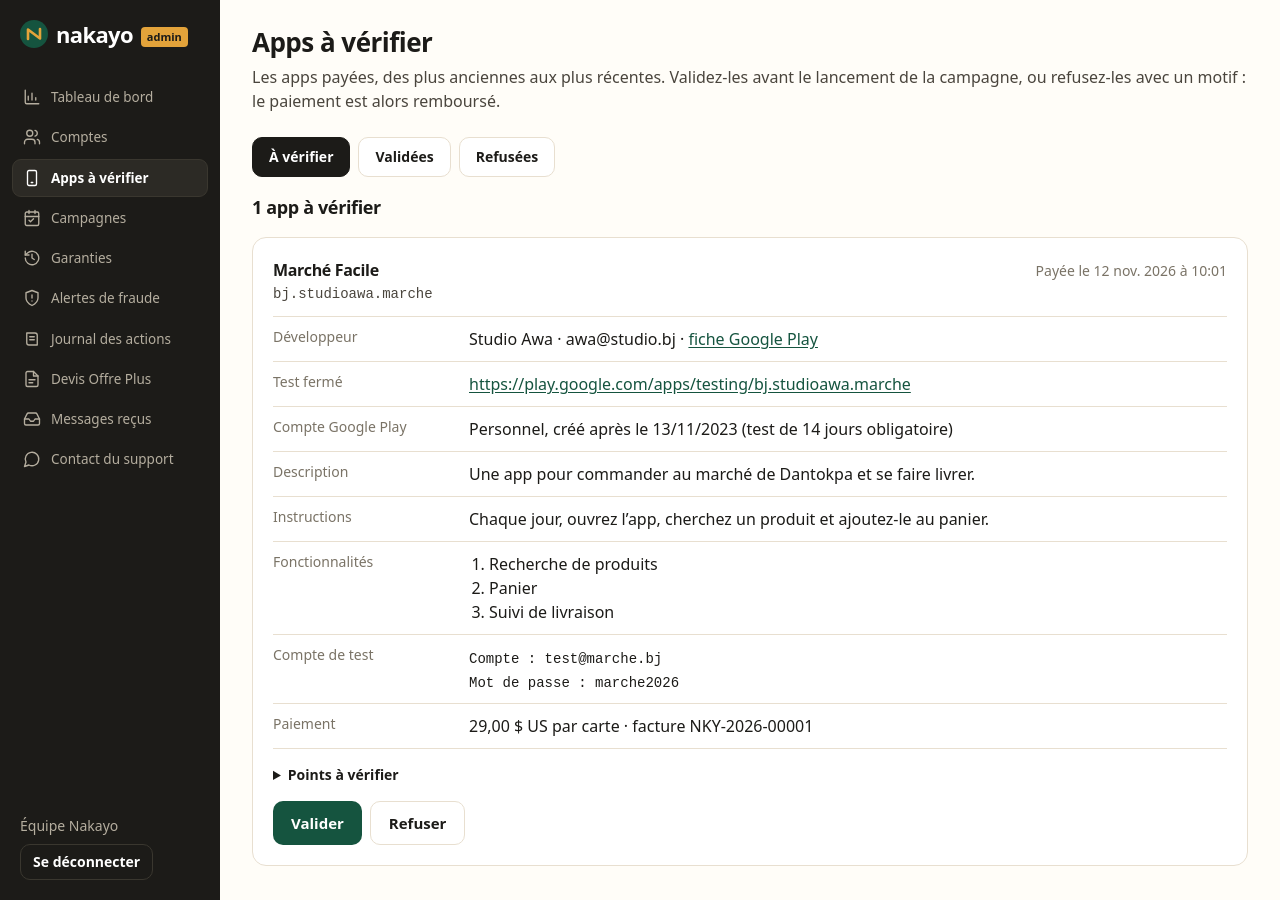
Test: Apps à vérifier (US-14) › valider retire l’app de la file et l’annonce
Step 1. Click the button with aria-label "Valider Marché Facile" → (317, 823), box [273, 801, 362, 845]
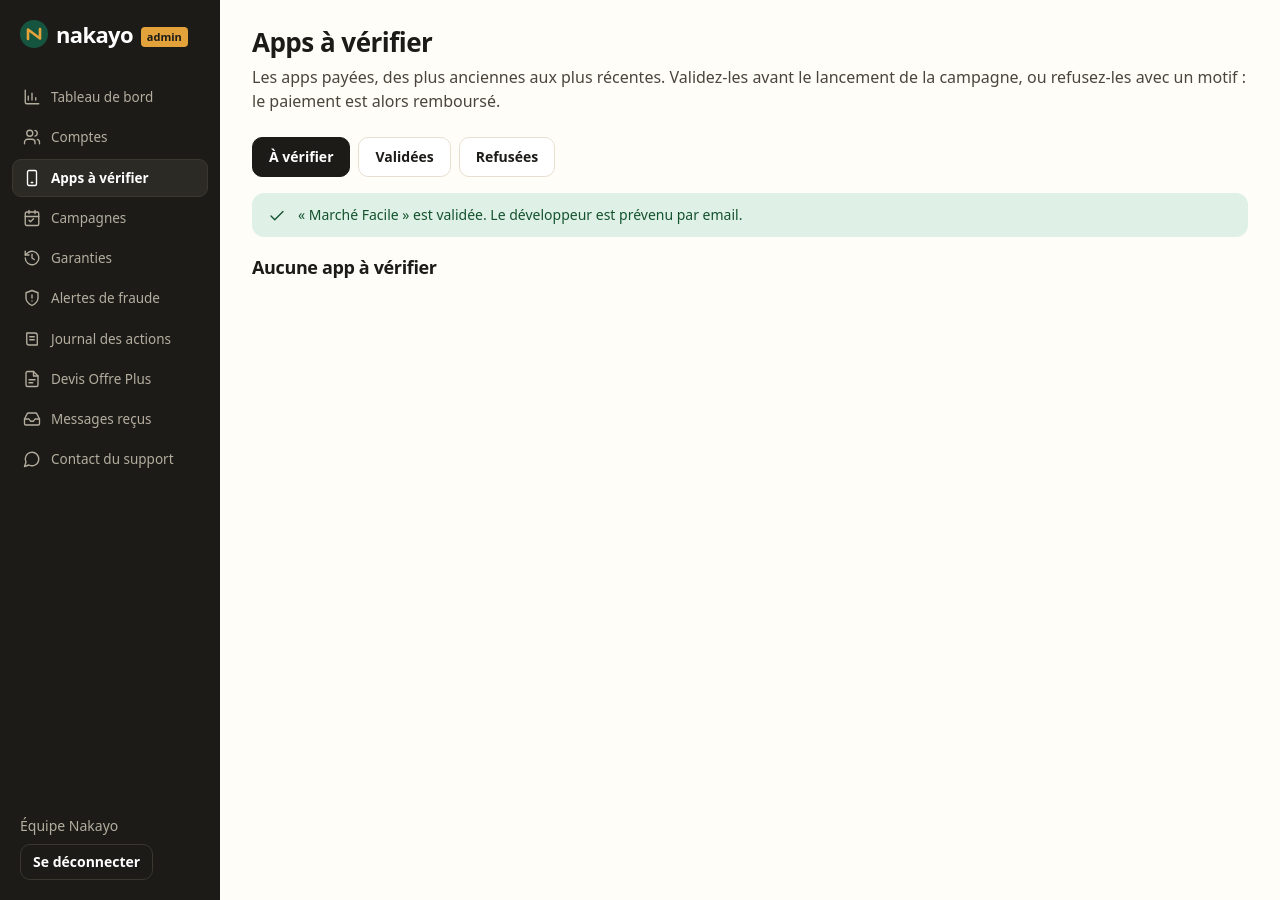
Result: the text "« Marché Facile » est validée. Le développeur est prévenu par email." is shown at [298, 205, 742, 225]
